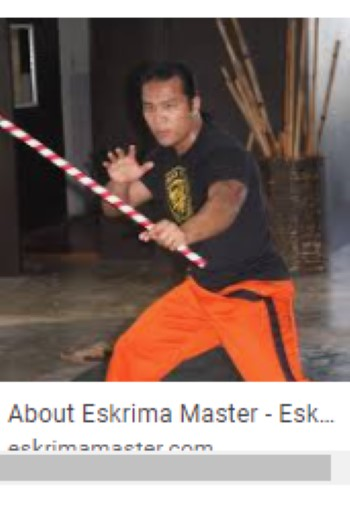baston_e: (8, 114, 146, 237), (229, 22, 276, 130), (317, 46, 348, 130), (280, 21, 293, 131), (311, 20, 319, 128)
baston_v: (177, 239, 214, 274), (330, 33, 342, 49)
